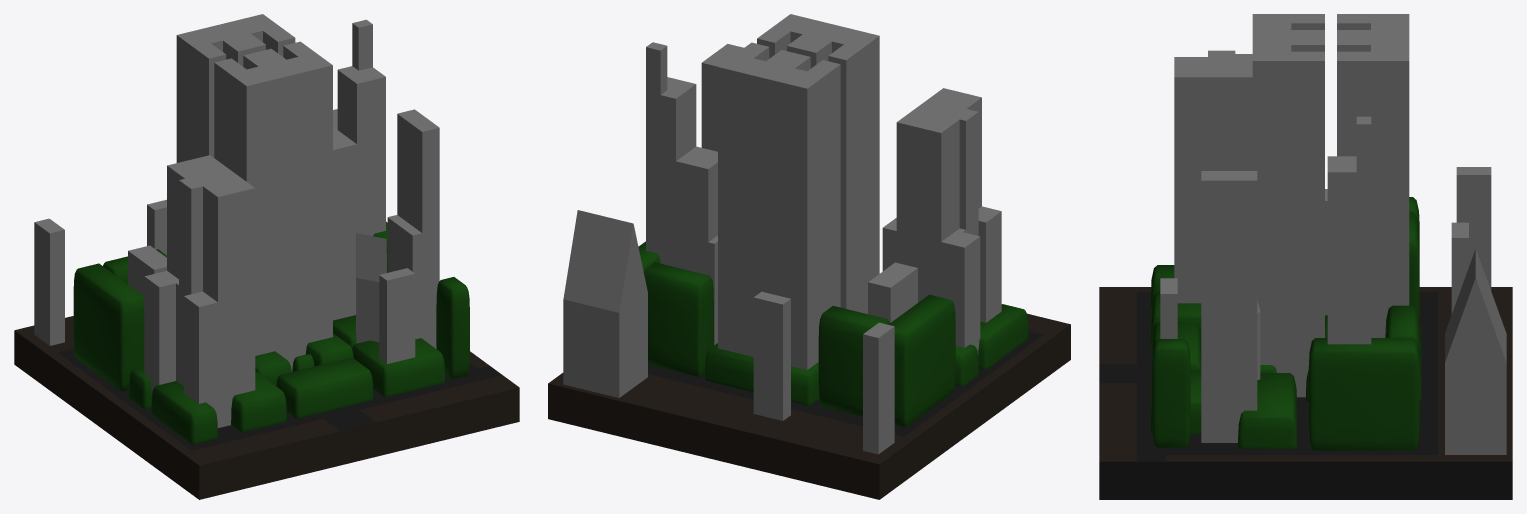
The model's file is Administration Building Area_short_cube.fbx.
3 renders of one model, left to right at view 1: azimuth 30°, elevation 25°; view 2: azimuth 150°, elevation 25°; view 3: azimuth 270°, elevation 25°, orthographic. The views are drawn at different scales.
Parts seen in each view (by area): view 1: Admin_s_cube; view 2: Admin_s_cube; view 3: Admin_s_cube.
Part boxes in pixels (x1=…): Admin_s_cube: x1=14, y1=14, x2=519, y2=499; Admin_s_cube: x1=548, y1=14, x2=1070, y2=499; Admin_s_cube: x1=1099, y1=14, x2=1512, y2=499.
Size of the model in its own units: 100 by 100 by 100.
